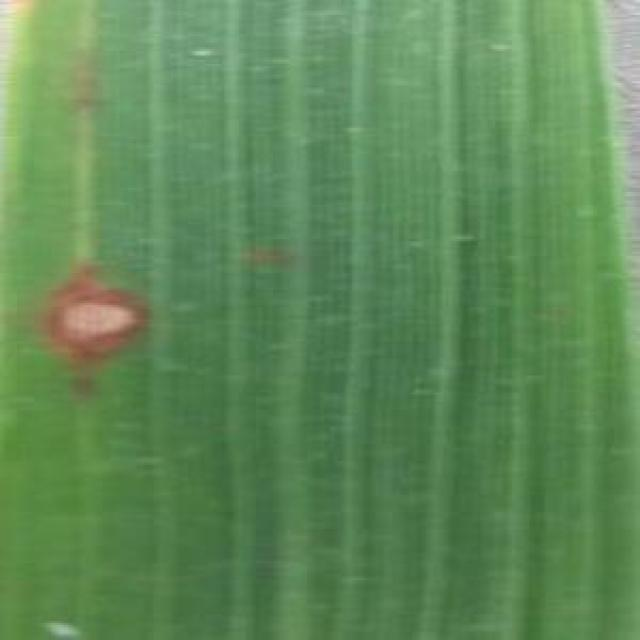Brown_Spot: (48, 274, 161, 362)
